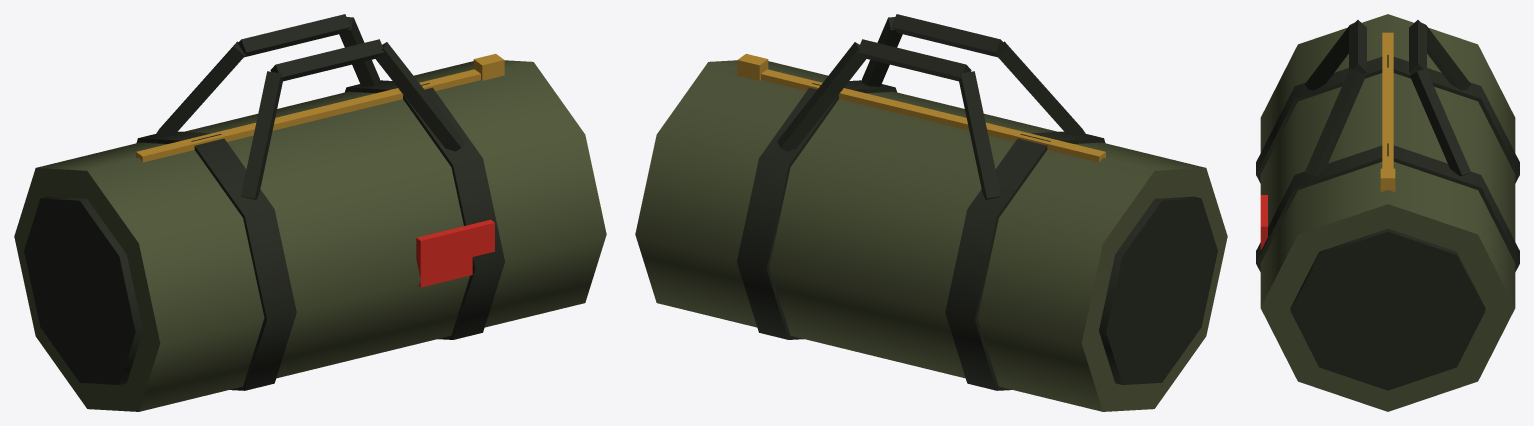
Rendered from tas_misterius.glb.
3 renders of one model, left to right at view 1: azimuth 30°, elevation 25°; view 2: azimuth 150°, elevation 25°; view 3: azimuth 270°, elevation 25°, orthographic. The views are drawn at different scales.
Visible parts, largest first — view 1: body; view 2: body; view 3: body.
Part boxes in pixels (x1,y1,x2,y2): body: [14, 14, 606, 411]; body: [635, 14, 1227, 411]; body: [1256, 14, 1519, 411].
Size of the model in its own units: 0.62 by 0.4104 by 0.352.
Materials: 1 (1 with a texture image).
